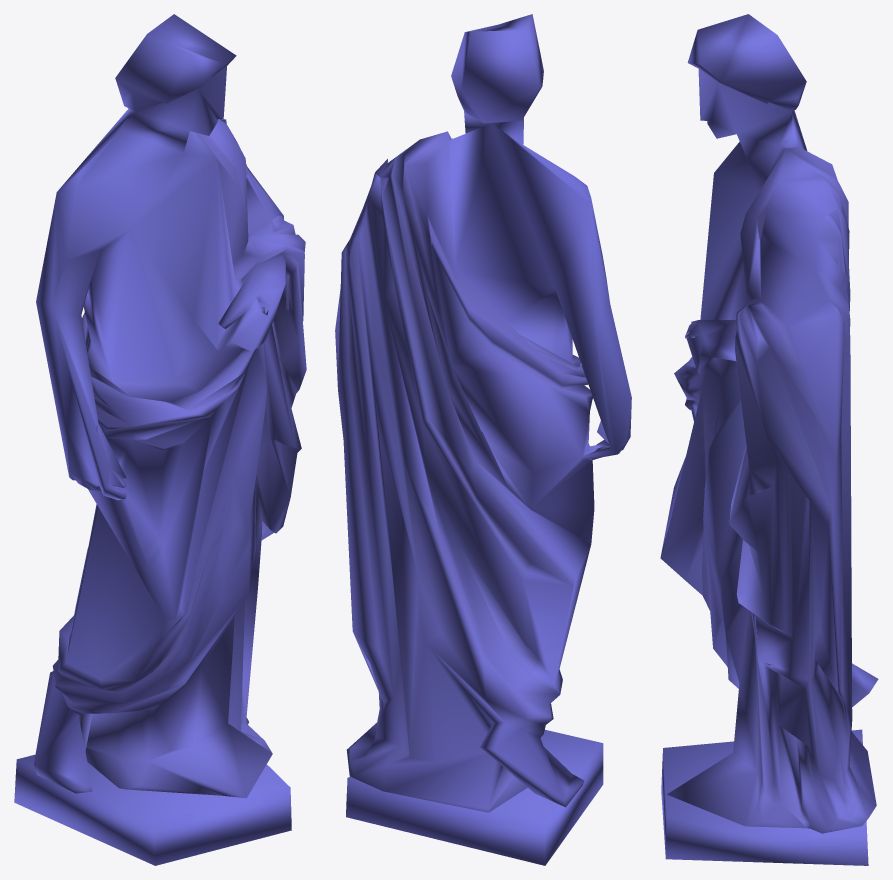
The model's file is model.progressive.glb.
3 renders of one model, left to right at view 1: azimuth 30°, elevation 25°; view 2: azimuth 150°, elevation 25°; view 3: azimuth 270°, elevation 25°, orthographic. The views are drawn at different scales.
Parts seen in each view (by area): view 1: material; view 2: material; view 3: material.
Boxes of the visible parts, left/top/right/bottom form: material: left=14, top=14, right=306, bottom=865; material: left=335, top=14, right=631, bottom=865; material: left=660, top=14, right=878, bottom=865.
Size of the model in its own units: 0.6542 by 1.88 by 0.4687.
Materials: 1 (1 with a texture image).
